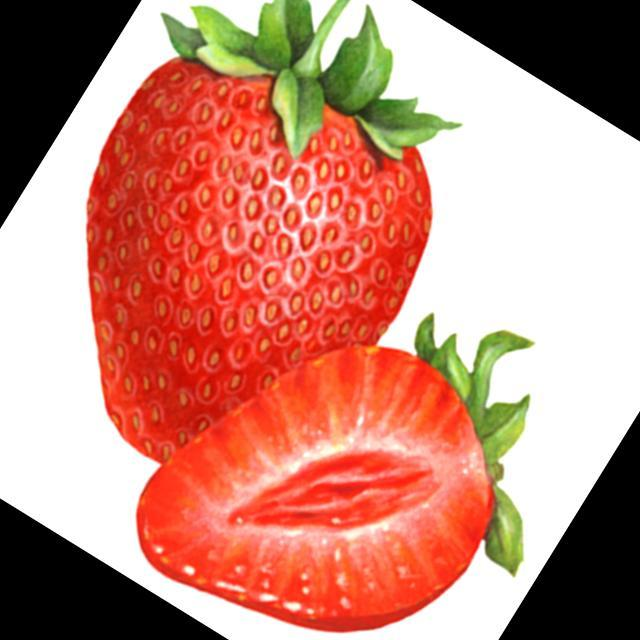strawberry: (88, 0, 459, 459), (138, 315, 531, 631)
